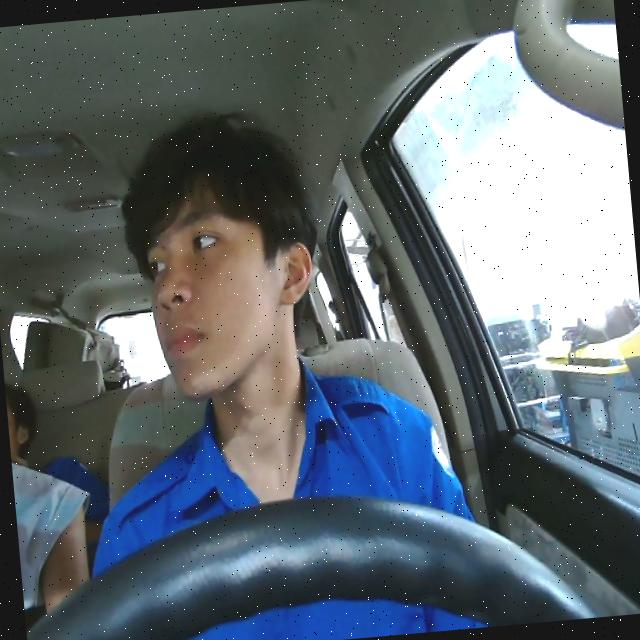seeing_left: (137, 171, 324, 403)
